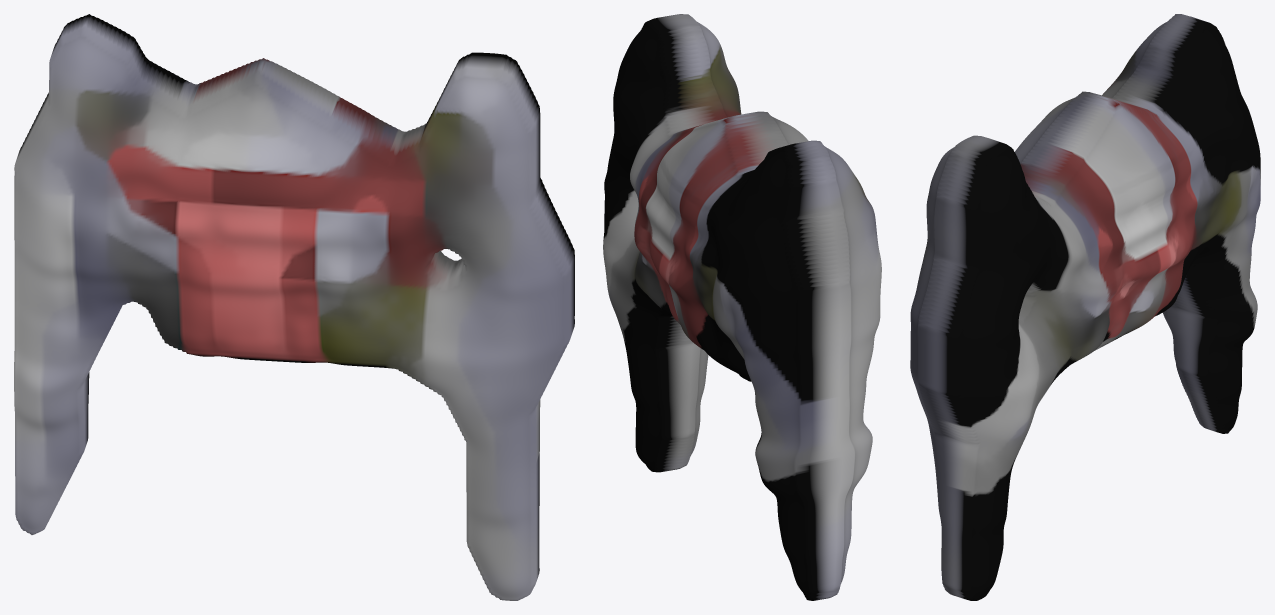
The model's file is terror_drone.glb.
The picture shows the model from 3 angles, left to right: view 1: azimuth 30°, elevation 25°; view 2: azimuth 150°, elevation 25°; view 3: azimuth 270°, elevation 25°; orthographic projection. The views are drawn at different scales.
Parts seen in each view (by area): view 1: terror_drone; view 2: terror_drone; view 3: terror_drone.
Part boxes in pixels (box(x1,y1,x2,y2)): terror_drone: box(14, 14, 574, 600); terror_drone: box(603, 14, 881, 600); terror_drone: box(910, 14, 1260, 600).
Size of the model in its own units: 1.72 by 2.16 by 1.49.
